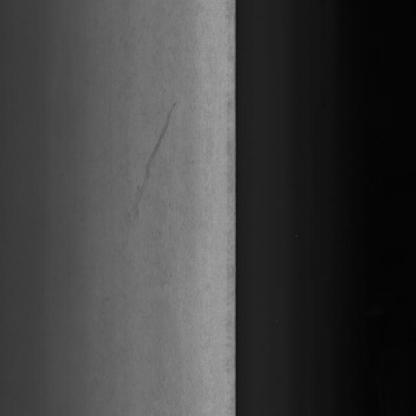water_spot: (123, 96, 178, 225)
